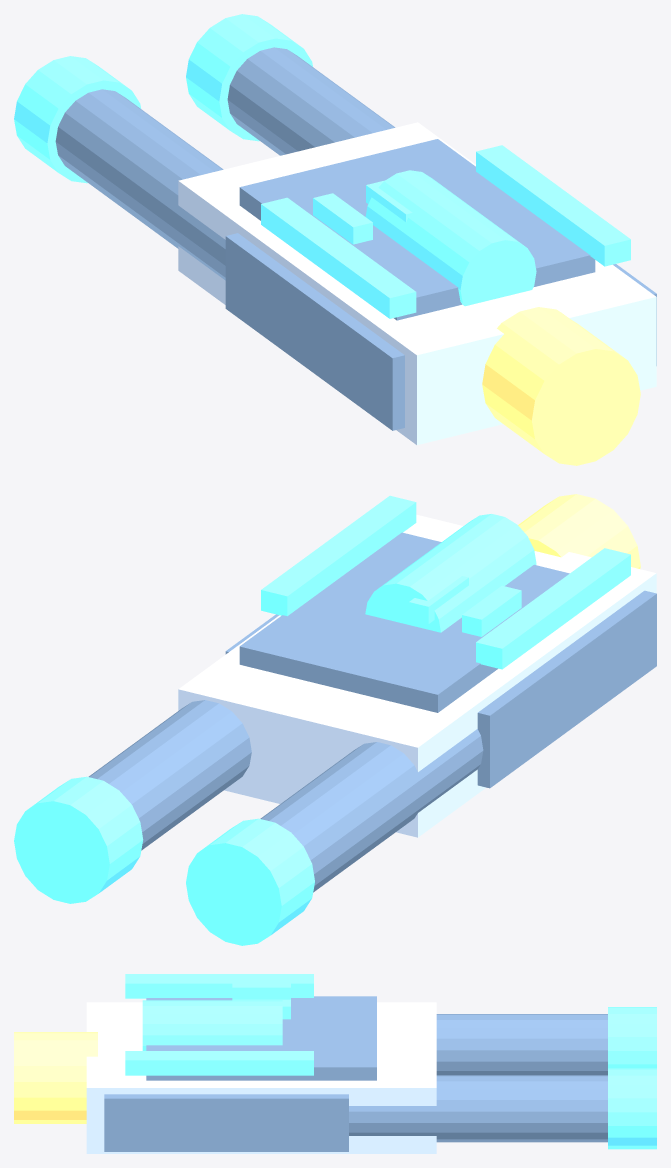
Rendered from arc-1.glb.
The picture shows the model from 3 angles, top to bottom: view 1: azimuth 30°, elevation 25°; view 2: azimuth 150°, elevation 25°; view 3: azimuth 270°, elevation 25°; orthographic projection. The views are drawn at different scales.
Visible parts, largest first — view 1: reactor_housing, power_cap, top_armor, rail_-1, barrel_-1, reactor_core, barrel_1, energy_-1, energy_1, muzzle_-1, muzzle_1, charge_0 (+1 smaller); view 2: reactor_housing, top_armor, rail_-1, barrel_-1, barrel_1, muzzle_1, muzzle_-1, reactor_core, energy_-1, energy_1, power_cap, charge_0 (+1 smaller); view 3: reactor_housing, barrel_1, rail_1, barrel_-1, top_armor, power_cap, reactor_core, energy_1, muzzle_1, energy_-1, muzzle_-1, charge_0 (+1 smaller).
Part boxes in pixels (left/top/right/bottom): reactor_housing: left=178, top=122, right=656, bottom=444; power_cap: left=482, top=307, right=640, bottom=465; top_armor: left=239, top=139, right=595, bottom=320; rail_-1: left=225, top=233, right=404, bottom=430; barrel_-1: left=55, top=89, right=225, bottom=280; reactor_core: left=365, top=170, right=536, bottom=306; barrel_1: left=227, top=47, right=395, bottom=155; energy_-1: left=261, top=197, right=416, bottom=318; energy_1: left=476, top=145, right=630, bottom=266; muzzle_-1: left=14, top=56, right=141, bottom=183; muzzle_1: left=186, top=14, right=312, bottom=141; charge_0: left=313, top=193, right=372, bottom=244; reactor_housing: left=178, top=515, right=656, bottom=837; top_armor: left=239, top=532, right=569, bottom=712; rail_-1: left=477, top=590, right=656, bottom=788; barrel_-1: left=260, top=729, right=483, bottom=892; barrel_1: left=88, top=700, right=251, bottom=850; muzzle_1: left=14, top=776, right=143, bottom=903; muzzle_-1: left=186, top=818, right=314, bottom=945; reactor_core: left=365, top=514, right=536, bottom=632; energy_-1: left=476, top=548, right=630, bottom=669; energy_1: left=261, top=495, right=416, bottom=616; power_cap: left=518, top=494, right=640, bottom=568; charge_0: left=462, top=585, right=521, bottom=636; reactor_housing: left=86, top=1002, right=436, bottom=1153; barrel_1: left=349, top=1075, right=607, bottom=1142; rail_1: left=104, top=1094, right=348, bottom=1151; barrel_-1: left=436, top=1014, right=607, bottom=1075; top_armor: left=146, top=996, right=376, bottom=1080; power_cap: left=14, top=1032, right=97, bottom=1123; reactor_core: left=142, top=1000, right=282, bottom=1050; energy_1: left=125, top=1051, right=313, bottom=1075; muzzle_1: left=608, top=1068, right=656, bottom=1149; energy_-1: left=125, top=974, right=313, bottom=998; muzzle_-1: left=608, top=1007, right=656, bottom=1068; charge_0: left=232, top=980, right=290, bottom=999.
Size of the model in its own units: 1.62 by 0.9115 by 4.6.
